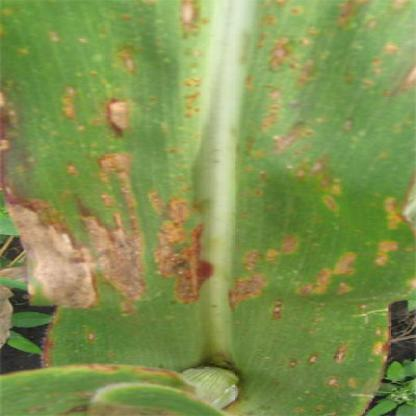Corn leaf blight: (7, 3, 415, 384)
